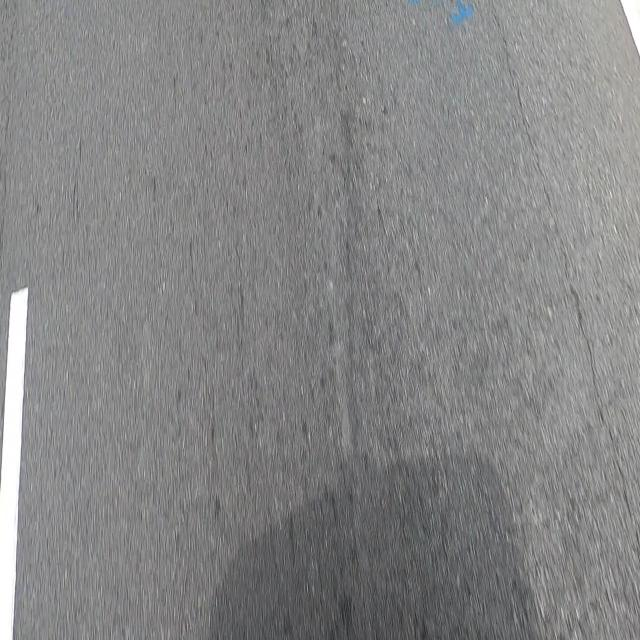Retak-Memanjang: (486, 2, 638, 543)
